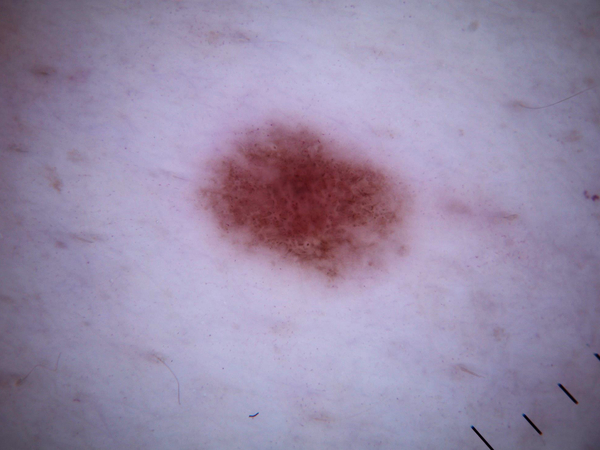Detected Lesion: (193, 111, 411, 284)
